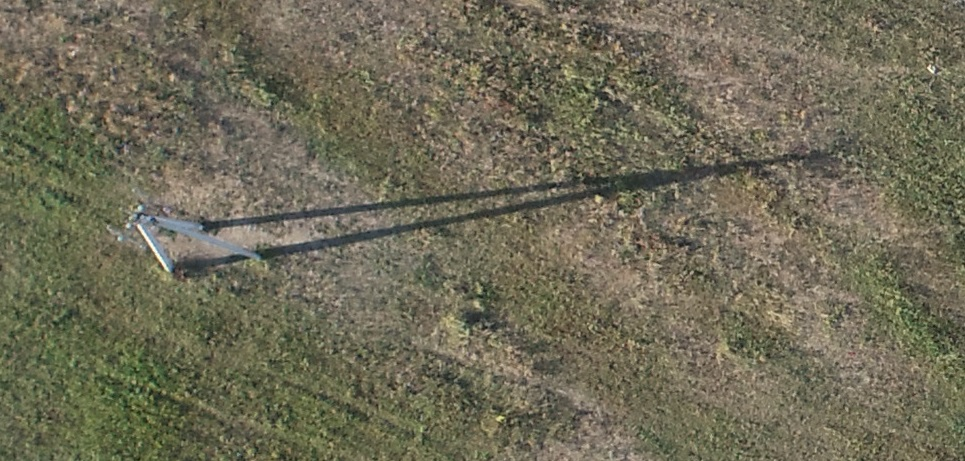opora: (104, 199, 329, 276)
